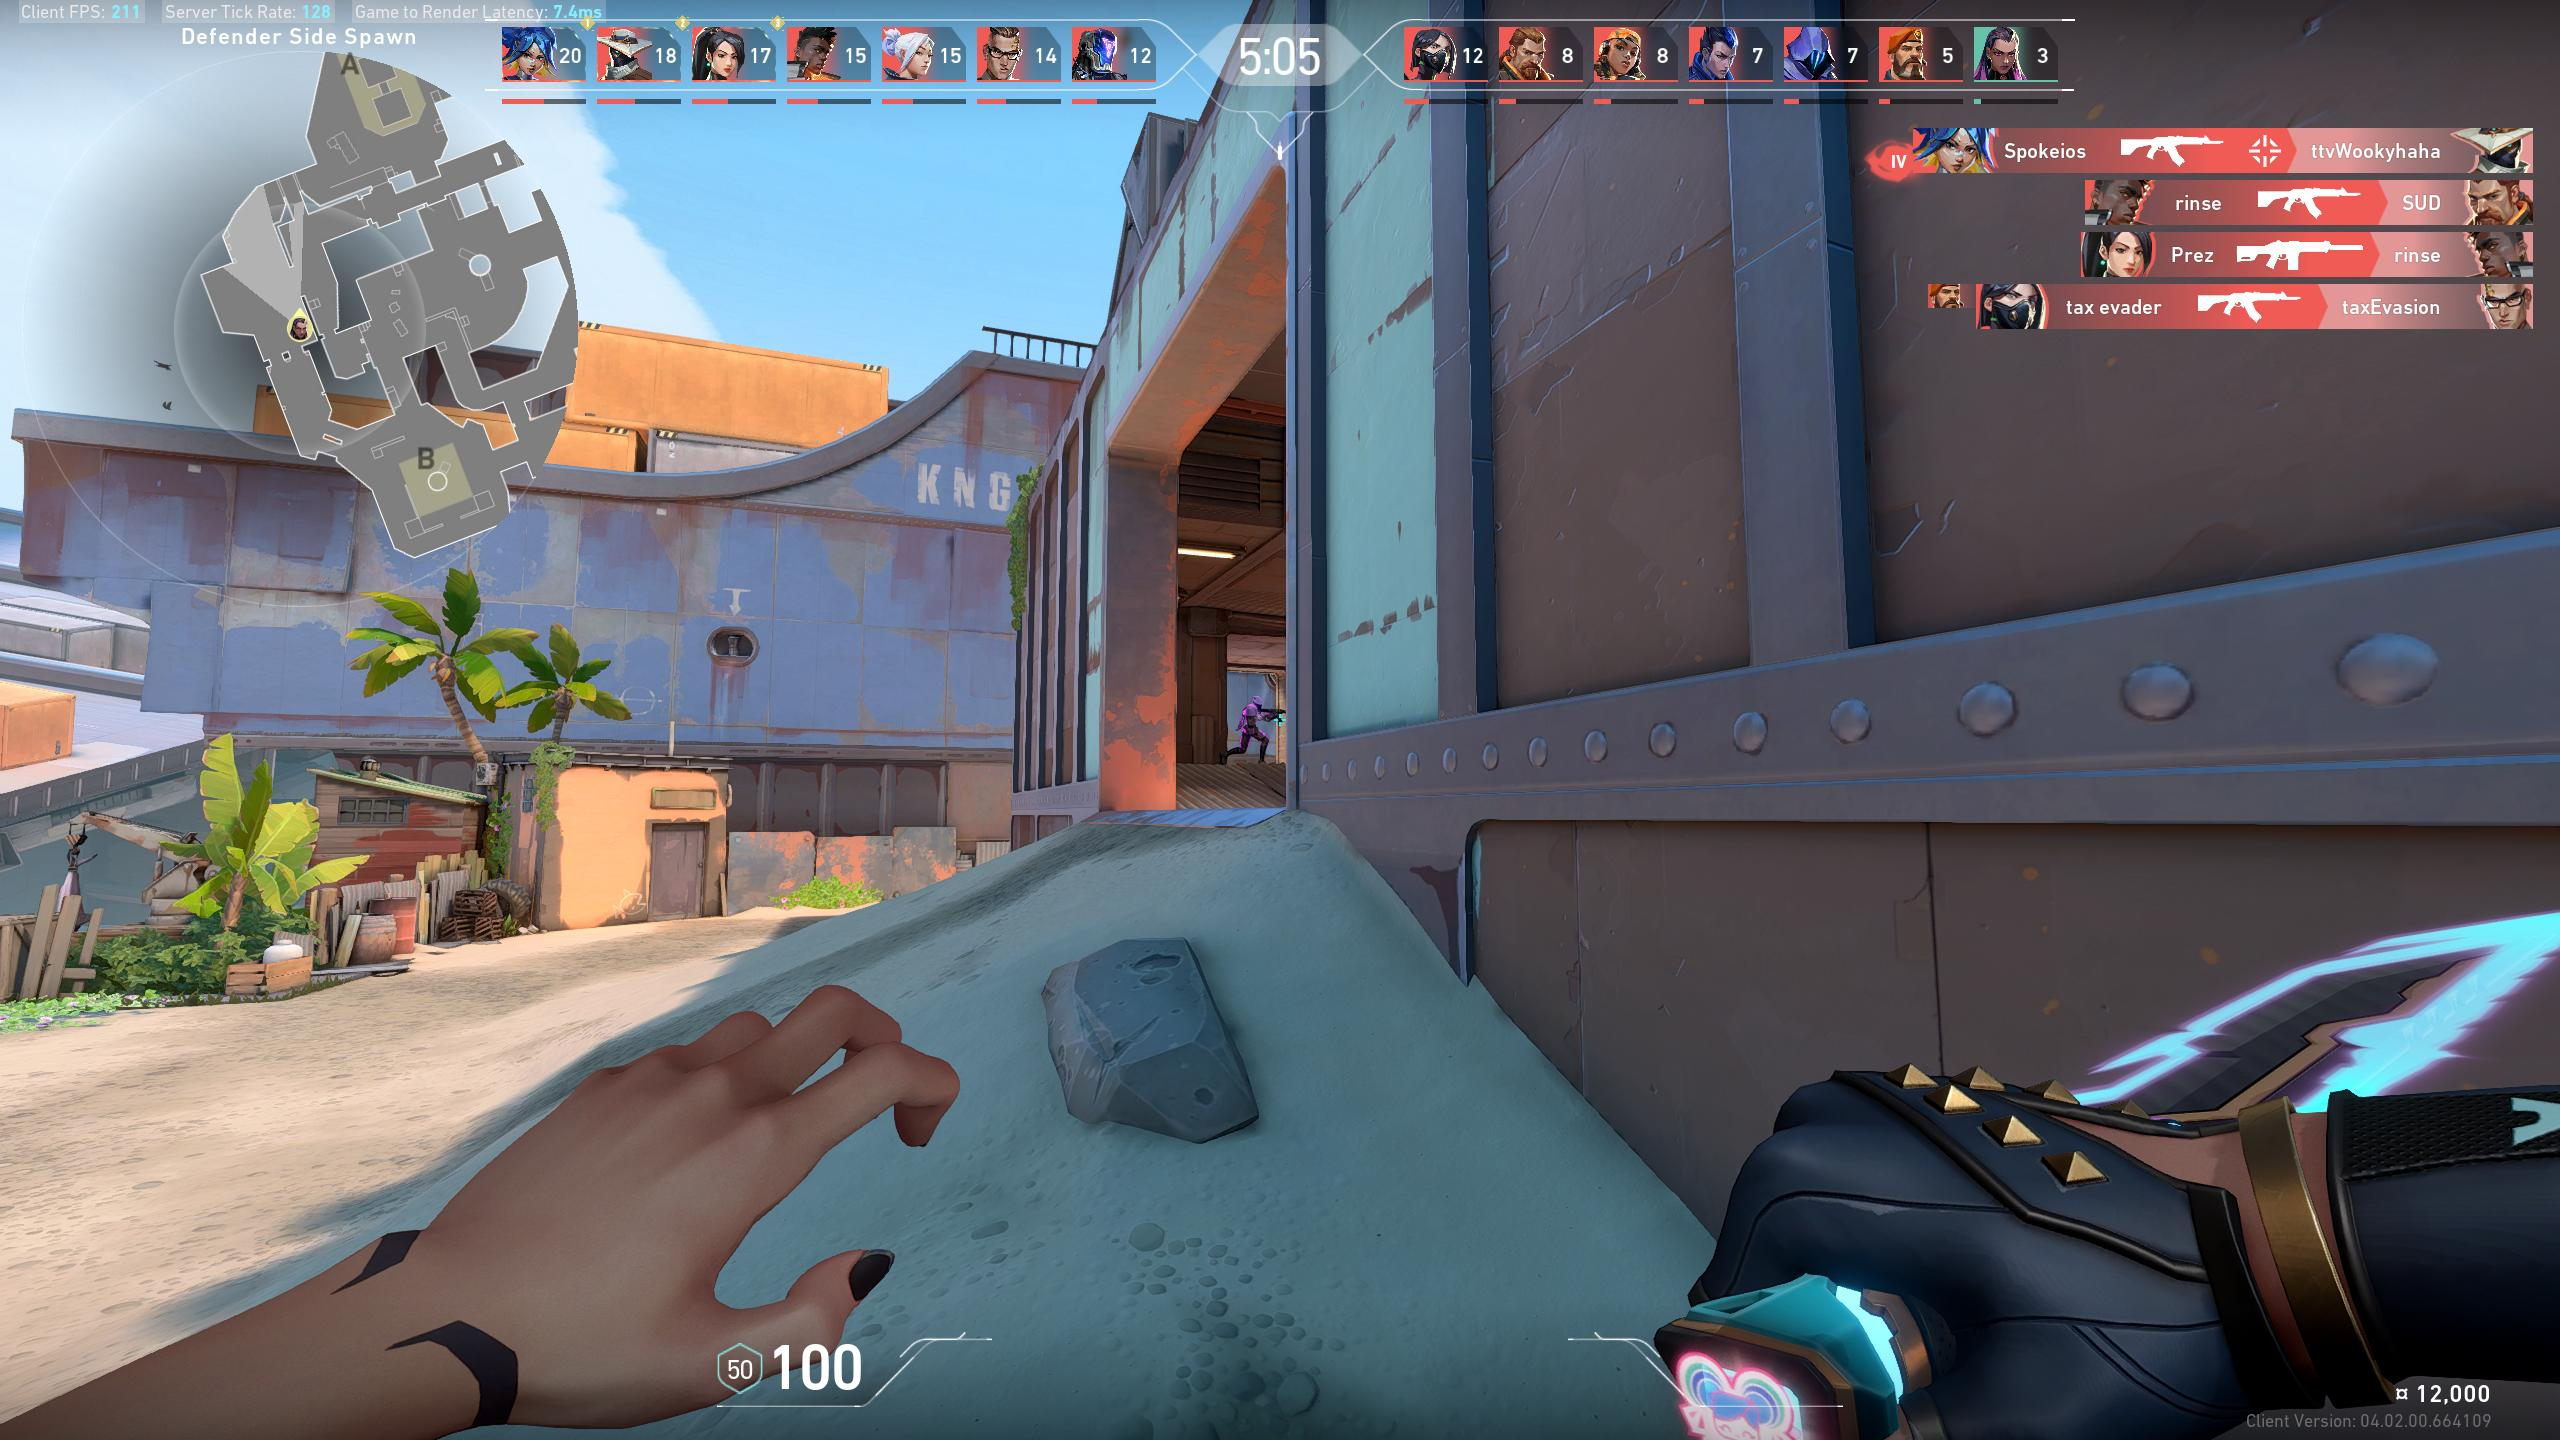enemyBody: (1247, 709, 1254, 730)
enemyHead: (1254, 696, 1261, 709)
